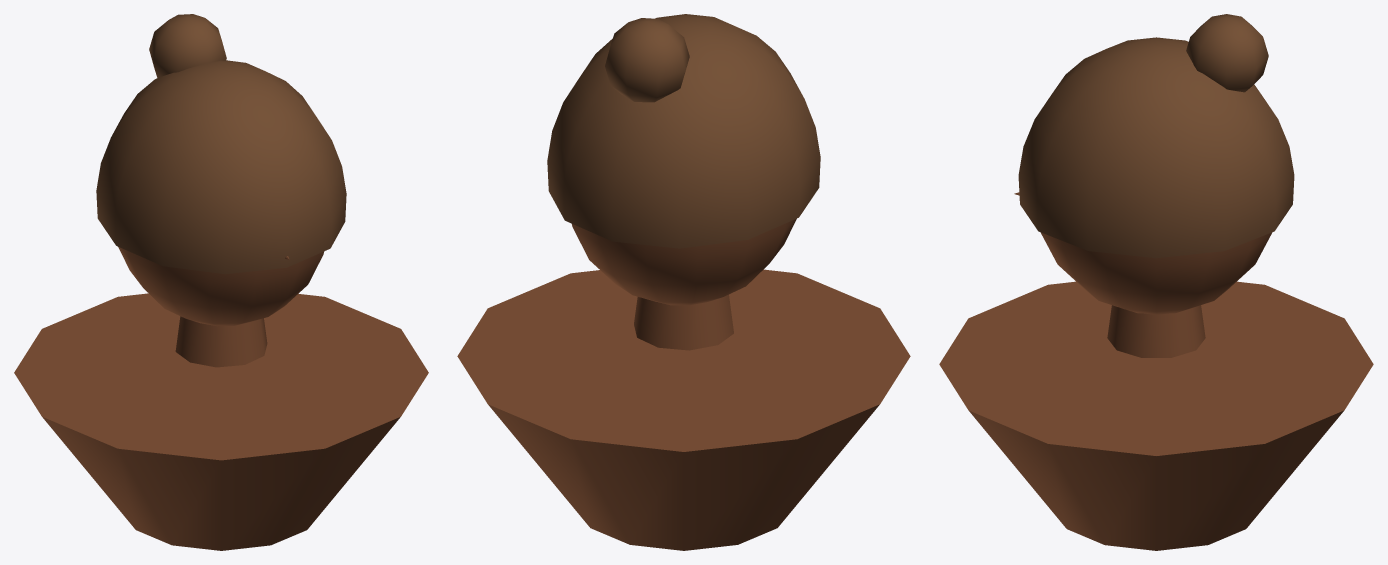
File: portrait08t_001.glb
3 renders of one model, left to right at view 1: azimuth 30°, elevation 25°; view 2: azimuth 150°, elevation 25°; view 3: azimuth 270°, elevation 25°, orthographic. The views are drawn at different scales.
Size of the model in its own units: 1.86 by 2.31 by 1.86.
